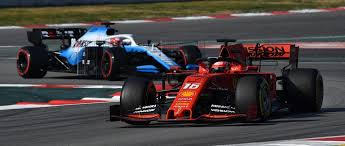FormulaOneCar: (108, 38, 328, 126), (13, 17, 201, 80)
